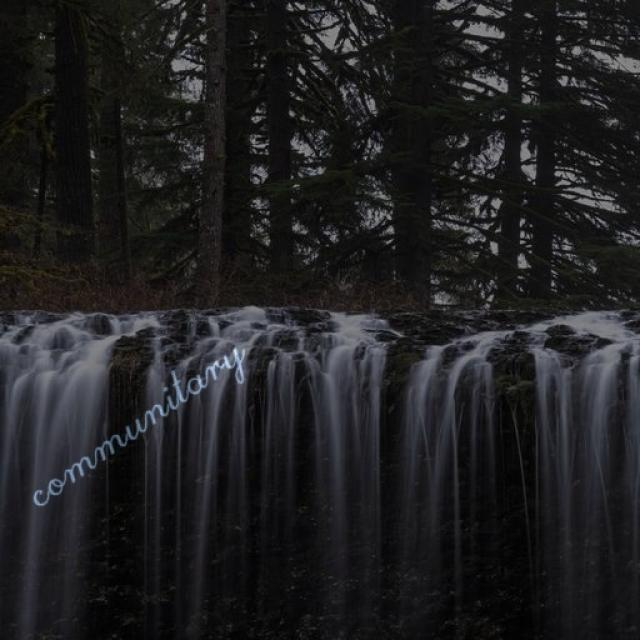watermark: (27, 321, 246, 516)
